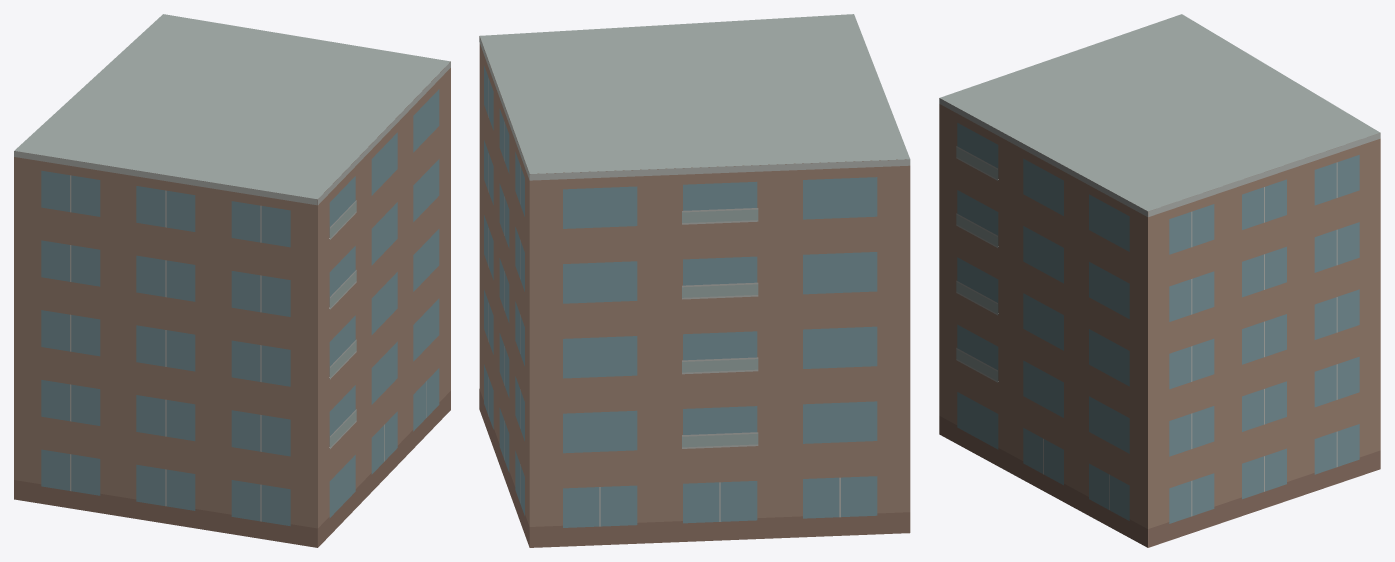
File: survey-upis-32910459.glb
The picture shows the model from 3 angles, left to right: view 1: azimuth 30°, elevation 25°; view 2: azimuth 150°, elevation 25°; view 3: azimuth 270°, elevation 25°; orthographic projection. The views are drawn at different scales.
Visible parts, largest first — view 1: survey-upis-32910459.tmp; view 2: survey-upis-32910459.tmp; view 3: survey-upis-32910459.tmp.
Part boxes in pixels (x1,y1,x2,y2): survey-upis-32910459.tmp: (14, 14, 450, 547); survey-upis-32910459.tmp: (479, 14, 910, 547); survey-upis-32910459.tmp: (939, 14, 1380, 547).
Bounding box in the file's own units: 17.63 × 14 × 16.65.
